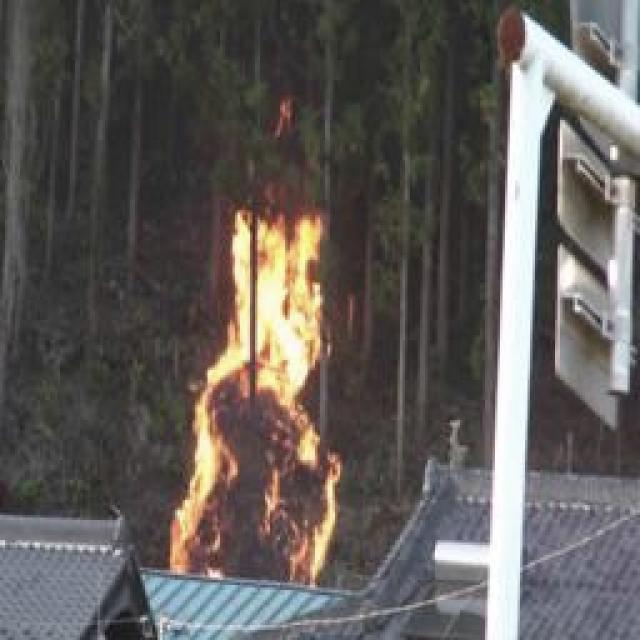Fire: (169, 202, 355, 588)
